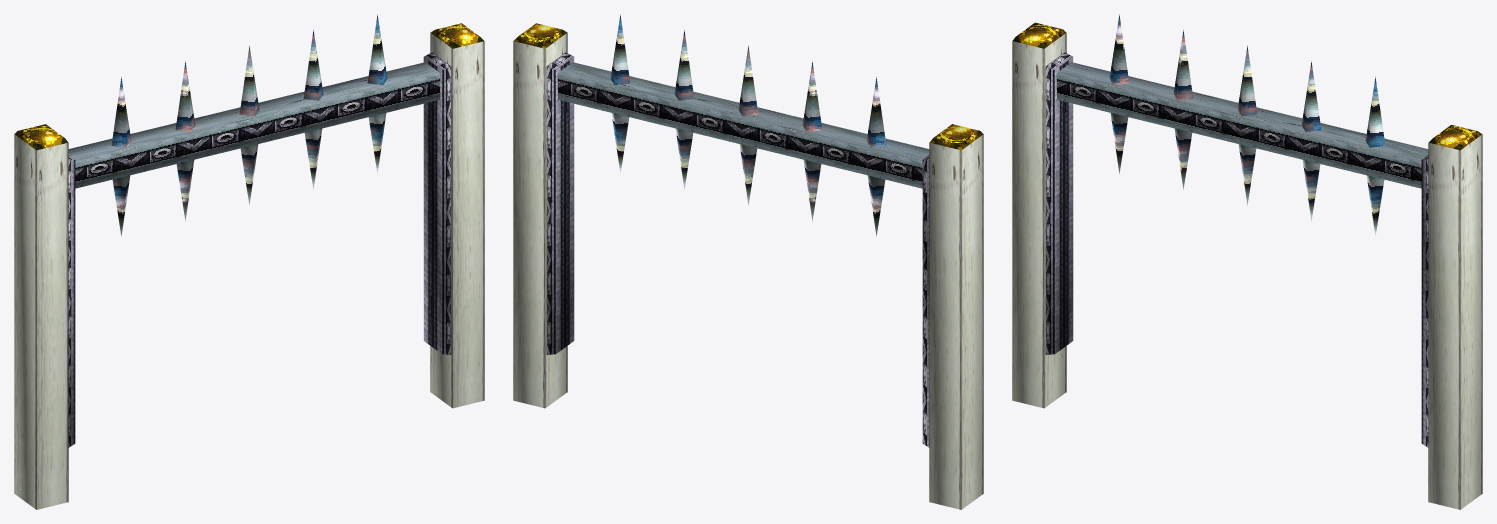
The model's file is SpikeGate.obj.
The picture shows the model from 3 angles, left to right: view 1: azimuth 30°, elevation 25°; view 2: azimuth 150°, elevation 25°; view 3: azimuth 330°, elevation 25°; orthographic projection.
Parts seen in each view (by area): view 1: object_C43244, object_C43B1C; view 2: object_C43244, object_C43B1C; view 3: object_C43244, object_C43B1C.
Boxes of the visible parts, <box> form: object_C43244: <box>14,23,484,509</box>; object_C43B1C: <box>68,14,439,236</box>; object_C43244: <box>513,23,983,509</box>; object_C43B1C: <box>558,14,929,236</box>; object_C43244: <box>1012,22,1482,509</box>; object_C43B1C: <box>1057,14,1428,236</box>.
Size of the model in its own units: 70 by 60 by 6.
Materials: 7 (7 with a texture image).
